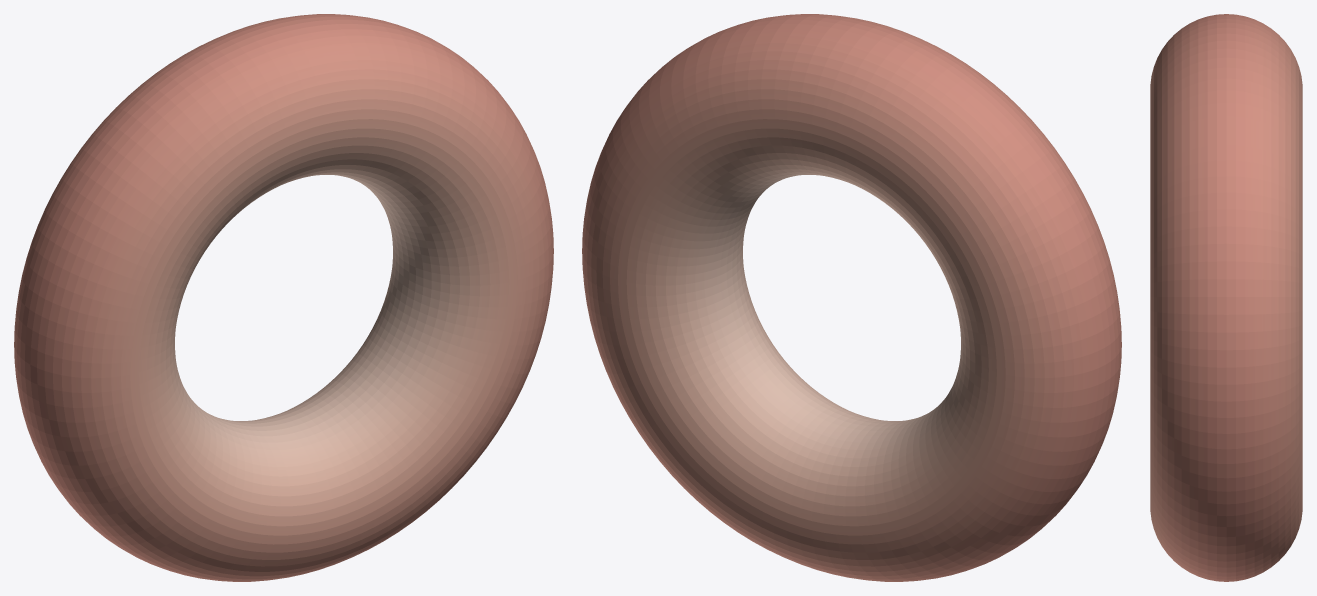
3 renders of one model, left to right at view 1: azimuth 30°, elevation 25°; view 2: azimuth 150°, elevation 25°; view 3: azimuth 270°, elevation 25°, orthographic. The views are drawn at different scales.
Parts seen in each view (by area): view 1: world; view 2: world; view 3: world.
Boxes of the visible parts, bbox=[...] form: world: bbox=[14, 14, 553, 581]; world: bbox=[582, 14, 1121, 581]; world: bbox=[1150, 14, 1302, 581].
Bounding box in the file's own units: 28.27 × 28.27 × 7.59.
